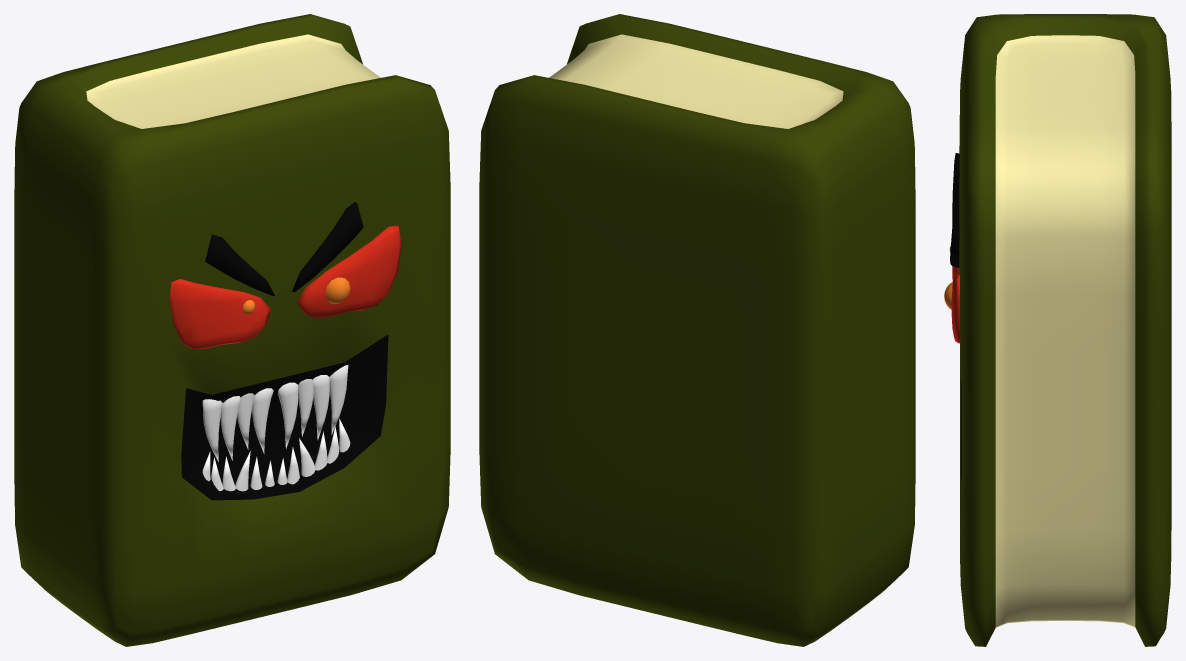
Rendered from EvilBook.fbx.
The picture shows the model from 3 angles, left to right: view 1: azimuth 30°, elevation 25°; view 2: azimuth 150°, elevation 25°; view 3: azimuth 270°, elevation 25°; orthographic projection.
Visible parts, largest first — view 1: EvilBook.001; view 2: EvilBook.001; view 3: EvilBook.001.
Part boxes in pixels (x1,y1,x2,y2): EvilBook.001: [14, 14, 450, 646]; EvilBook.001: [479, 14, 915, 646]; EvilBook.001: [944, 14, 1171, 646].
Bounding box in the file's own units: 143 × 199 × 81.41.
1 material, 1 textured.
